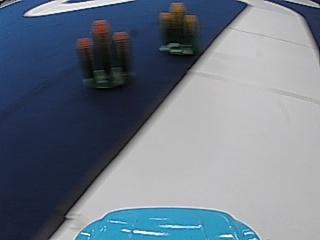corn: (77, 17, 132, 92), (157, 0, 198, 56)
